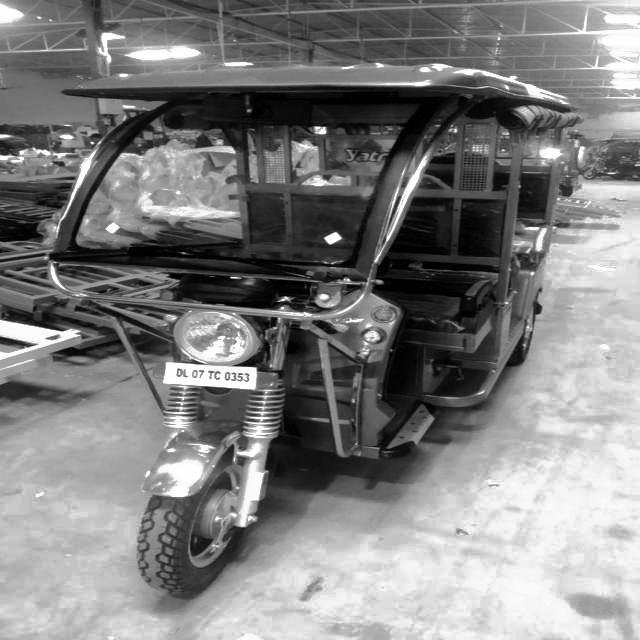Toto: (68, 51, 596, 607)
